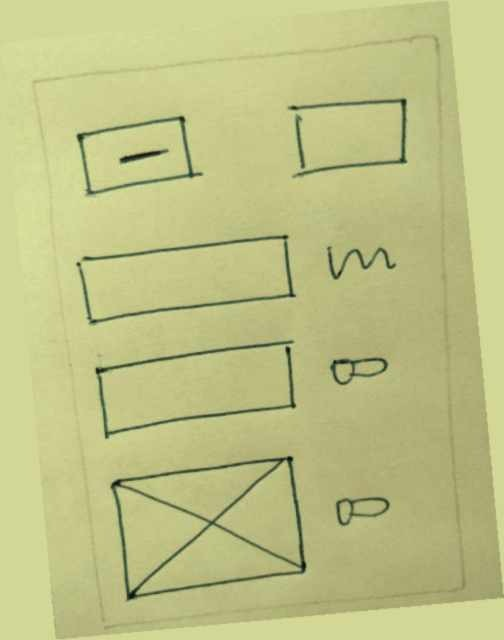button: (69, 113, 208, 202)
image: (101, 448, 314, 600)
switch: (324, 343, 396, 401), (326, 484, 398, 542)
text: (309, 223, 406, 295)
text_input: (69, 223, 301, 334), (79, 332, 310, 442), (278, 87, 417, 186)
